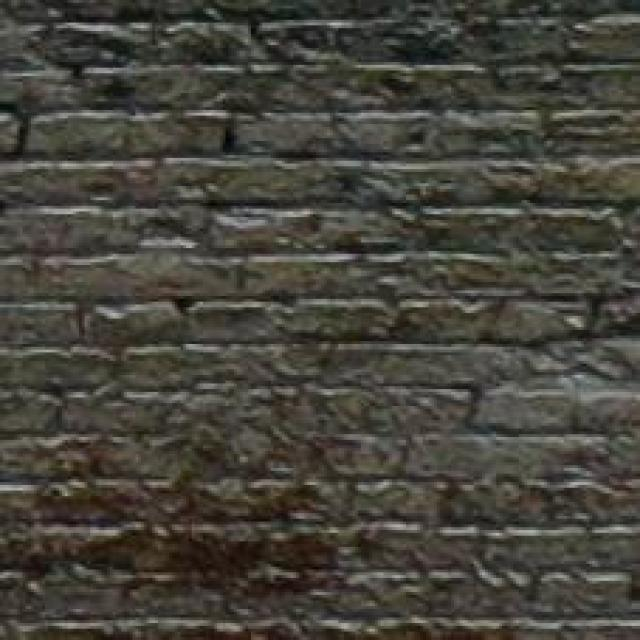Crack: (0, 0, 550, 152)
